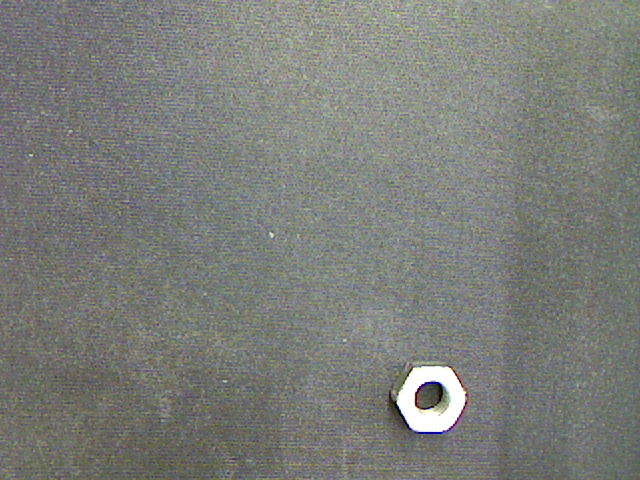Nut: (391, 362, 467, 434)
